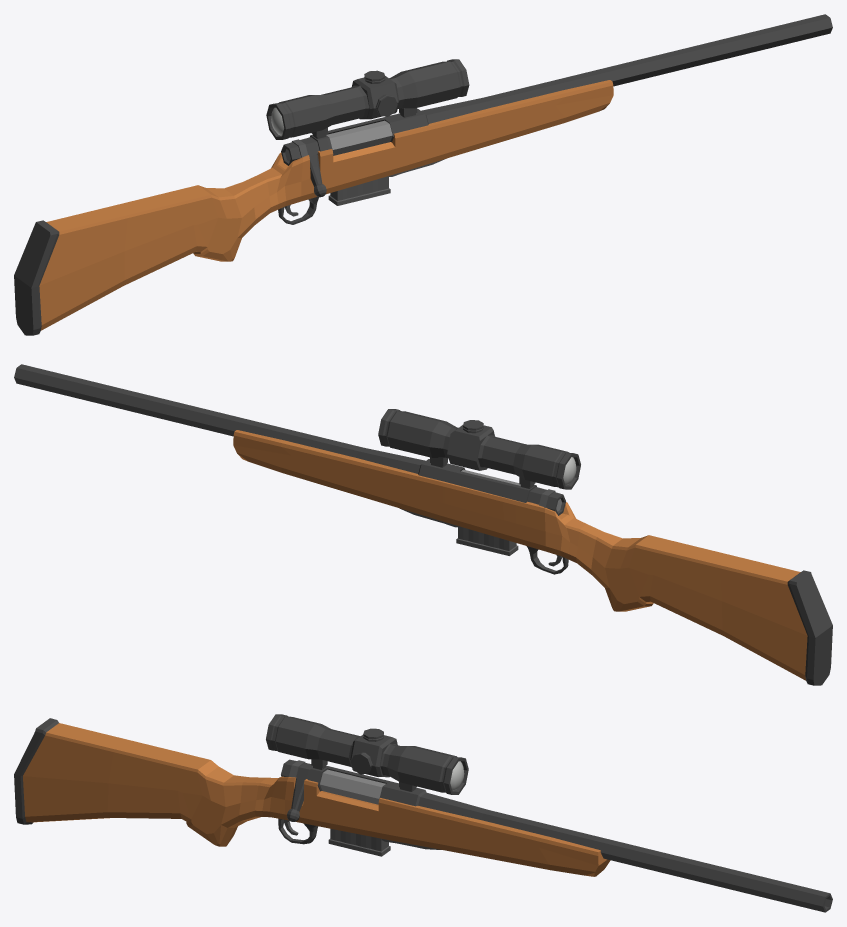
Rendered from Sniper Rifle.glb.
The picture shows the model from 3 angles, top to bottom: view 1: azimuth 30°, elevation 25°; view 2: azimuth 150°, elevation 25°; view 3: azimuth 330°, elevation 25°; orthographic projection.
Visible parts, largest first — view 1: Body_Cube, Barrel_Cube004, Scope_Cube005, PullBack_Cylinder003, Mag_Cube007; view 2: Body_Cube, Barrel_Cube004, Scope_Cube005, Mag_Cube007, PullBack_Cylinder003; view 3: Body_Cube, Barrel_Cube004, Scope_Cube005, PullBack_Cylinder003, Mag_Cube007.
Part boxes in pixels (<box>): Body_Cube: <box>14,80,613,335</box>; Barrel_Cube004: <box>310,14,832,151</box>; Scope_Cube005: <box>266,59,469,139</box>; PullBack_Cylinder003: <box>281,120,392,197</box>; Mag_Cube007: <box>328,176,390,205</box>; Body_Cube: <box>233,430,832,685</box>; Barrel_Cube004: <box>14,364,536,502</box>; Scope_Cube005: <box>378,409,580,489</box>; Mag_Cube007: <box>456,526,518,555</box>; PullBack_Cylinder003: <box>461,469,565,515</box>; Body_Cube: <box>14,718,610,876</box>; Barrel_Cube004: <box>307,765,832,912</box>; Scope_Cube005: <box>266,714,468,794</box>; PullBack_Cylinder003: <box>281,759,385,821</box>; Mag_Cube007: <box>328,828,390,856</box>.
Size of the model in its own units: 11.96 by 2.49 by 0.7035.
